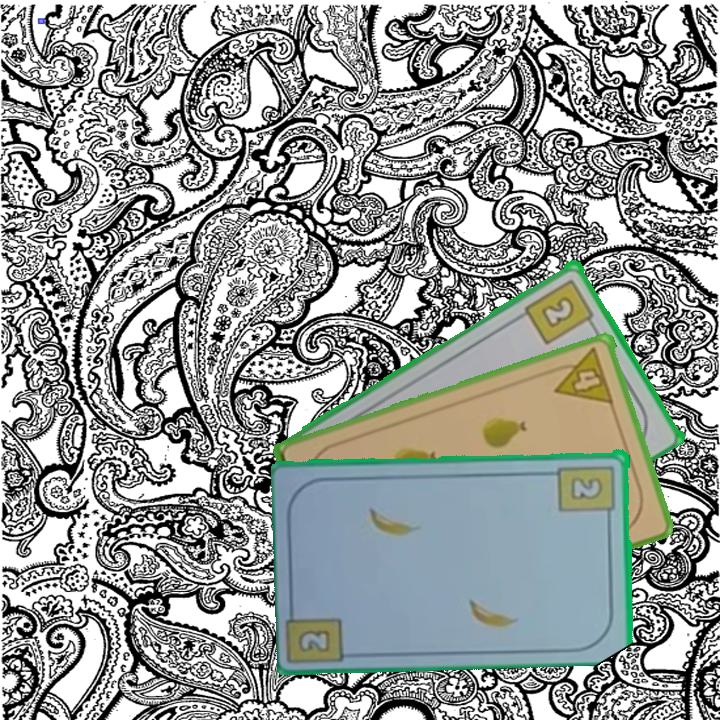2b: (521, 275, 599, 347), (556, 462, 618, 523), (294, 626, 334, 656)
4p: (546, 344, 617, 408)
